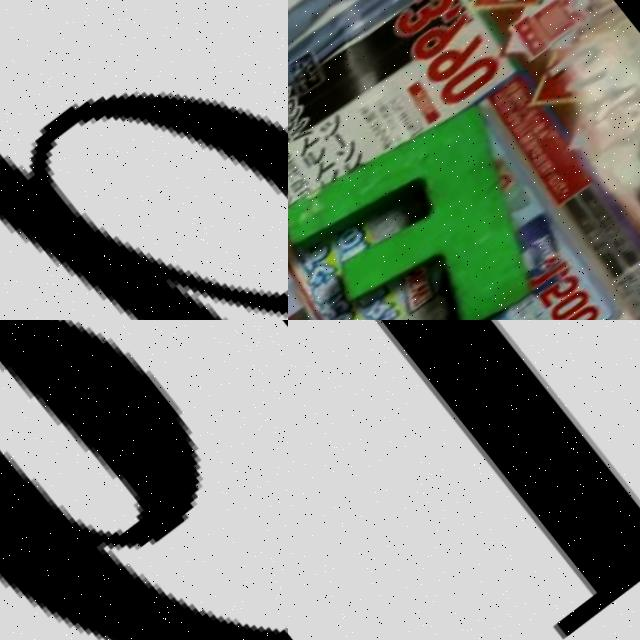1: (288, 320, 640, 640)
9: (0, 320, 288, 640)
D: (0, 0, 288, 320)
F: (288, 79, 583, 320)
